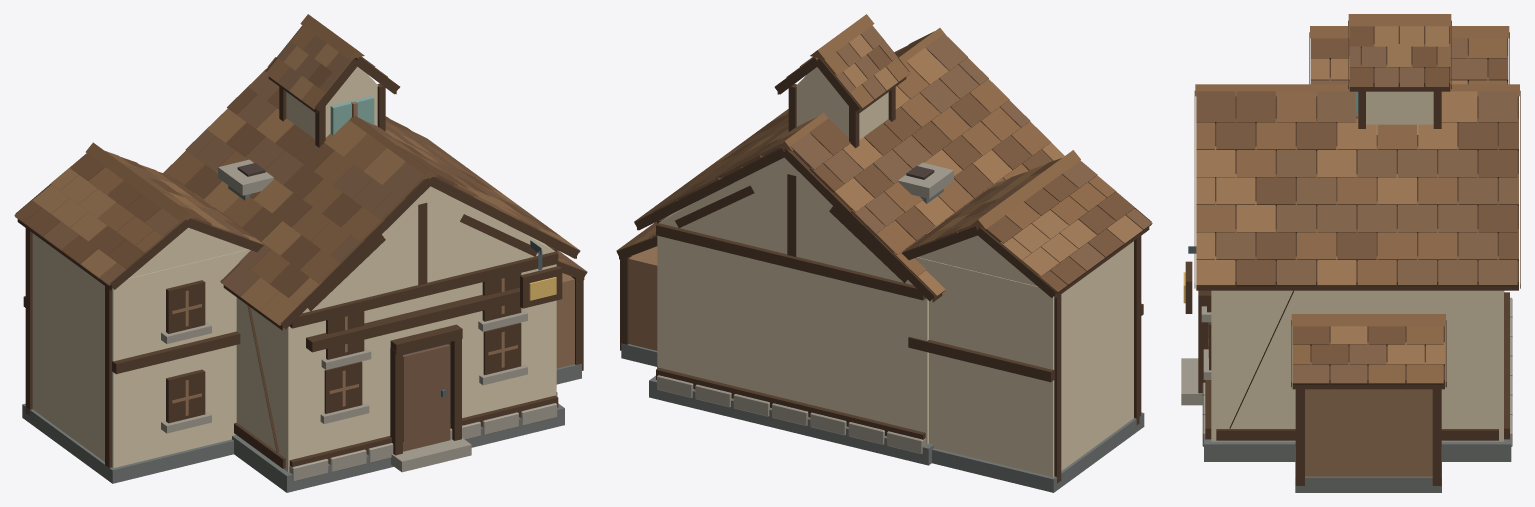
The model's file is ENV_Civic_tavern_LOD0.glb.
3 views of the same model, side by side, from view 1: azimuth 30°, elevation 25°; view 2: azimuth 150°, elevation 25°; view 3: azimuth 270°, elevation 25° (orthographic). The views are drawn at different scales.
Visible parts, largest first — view 1: ENV_Civic_tavern_LOD0_roof_roofTiles, ENV_Civic_tavern_LOD0_shell_plasterIvory, ENV_Civic_tavern_LOD0_stage7_upper_wing_plasterIvory, ENV_Civic_tavern_LOD0_shell_woodDark, ENV_Civic_tavern_LOD0_stage7_upper_wing_roofTiles, ENV_Civic_tavern_LOD0_stage7_upper_wing_woodDark, ENV_Civic_tavern_LOD0_tavern_identity_woodDark, ENV_Civic_tavern_LOD0_stage8_roof_lantern_roofTiles, ENV_Civic_tavern_LOD0_shell_wood, ENV_Civic_tavern_LOD0_roof_woodDark, ENV_Civic_tavern_LOD0_foundation_stoneDark, ENV_Civic_tavern_LOD0_stage7_upper_wing_stoneDark (+9 smaller); view 2: ENV_Civic_tavern_LOD0_shell_plasterIvory, ENV_Civic_tavern_LOD0_stage7_upper_wing_plasterIvory, ENV_Civic_tavern_LOD0_roof_roofTiles, ENV_Civic_tavern_LOD0_stage7_upper_wing_roofTiles, ENV_Civic_tavern_LOD0_shell_woodDark, ENV_Civic_tavern_LOD0_stage7_upper_wing_woodDark, ENV_Civic_tavern_LOD0_stage8_roof_lantern_roofTiles, ENV_Civic_tavern_LOD0_foundation_stone, ENV_Civic_tavern_LOD0_roof_woodDark, ENV_Civic_tavern_LOD0_stage7_upper_wing_stoneDark, ENV_Civic_tavern_LOD0_foundation_stoneDark, ENV_Civic_tavern_LOD0_stage8_roof_lantern_plasterIvory (+5 smaller); view 3: ENV_Civic_tavern_LOD0_roof_roofTiles, ENV_Civic_tavern_LOD0_shell_plasterIvory, ENV_Civic_tavern_LOD0_stage5_shed_woodLight, ENV_Civic_tavern_LOD0_stage5_shed_roofTiles, ENV_Civic_tavern_LOD0_stage8_roof_lantern_roofTiles, ENV_Civic_tavern_LOD0_stage7_upper_wing_roofTiles, ENV_Civic_tavern_LOD0_roof_woodDark, ENV_Civic_tavern_LOD0_shell_woodDark, ENV_Civic_tavern_LOD0_foundation_stoneDark, ENV_Civic_tavern_LOD0_stage5_shed_woodDark, ENV_Civic_tavern_LOD0_stage5_shed_stoneDark, ENV_Civic_tavern_LOD0_stage8_roof_lantern_plasterIvory (+4 smaller).
Part boxes in pixels (left/top/right/bottom): ENV_Civic_tavern_LOD0_roof_roofTiles: left=163, top=57, right=580, bottom=325; ENV_Civic_tavern_LOD0_shell_plasterIvory: left=236, top=186, right=556, bottom=472; ENV_Civic_tavern_LOD0_stage7_upper_wing_plasterIvory: left=32, top=227, right=250, bottom=468; ENV_Civic_tavern_LOD0_shell_woodDark: left=234, top=202, right=558, bottom=468; ENV_Civic_tavern_LOD0_stage7_upper_wing_roofTiles: left=14, top=142, right=263, bottom=285; ENV_Civic_tavern_LOD0_stage7_upper_wing_woodDark: left=15, top=154, right=263, bottom=467; ENV_Civic_tavern_LOD0_tavern_identity_woodDark: left=306, top=266, right=562, bottom=359; ENV_Civic_tavern_LOD0_stage8_roof_lantern_roofTiles: left=265, top=14, right=400, bottom=109; ENV_Civic_tavern_LOD0_shell_wood: left=403, top=344, right=450, bottom=451; ENV_Civic_tavern_LOD0_roof_woodDark: left=163, top=151, right=579, bottom=330; ENV_Civic_tavern_LOD0_foundation_stoneDark: left=232, top=403, right=564, bottom=492; ENV_Civic_tavern_LOD0_stage7_upper_wing_stoneDark: left=22, top=403, right=233, bottom=483; ENV_Civic_tavern_LOD0_shell_plasterIvory: left=657, top=157, right=928, bottom=444; ENV_Civic_tavern_LOD0_stage7_upper_wing_plasterIvory: left=915, top=235, right=1133, bottom=476; ENV_Civic_tavern_LOD0_roof_roofTiles: left=634, top=28, right=1064, bottom=297; ENV_Civic_tavern_LOD0_stage7_upper_wing_roofTiles: left=902, top=150, right=1152, bottom=293; ENV_Civic_tavern_LOD0_shell_woodDark: left=656, top=174, right=925, bottom=439; ENV_Civic_tavern_LOD0_stage7_upper_wing_woodDark: left=901, top=191, right=1151, bottom=483; ENV_Civic_tavern_LOD0_stage8_roof_lantern_roofTiles: left=775, top=14, right=910, bottom=109; ENV_Civic_tavern_LOD0_foundation_stone: left=657, top=375, right=925, bottom=454; ENV_Civic_tavern_LOD0_roof_woodDark: left=634, top=142, right=1064, bottom=302; ENV_Civic_tavern_LOD0_stage7_upper_wing_stoneDark: left=932, top=412, right=1144, bottom=492; ENV_Civic_tavern_LOD0_foundation_stoneDark: left=649, top=375, right=933, bottom=465; ENV_Civic_tavern_LOD0_stage8_roof_lantern_plasterIvory: left=796, top=67, right=888, bottom=139; ENV_Civic_tavern_LOD0_roof_roofTiles: left=1195, top=84, right=1519, bottom=286; ENV_Civic_tavern_LOD0_shell_plasterIvory: left=1211, top=290, right=1503, bottom=441; ENV_Civic_tavern_LOD0_stage5_shed_woodLight: left=1305, top=389, right=1432, bottom=476; ENV_Civic_tavern_LOD0_stage5_shed_roofTiles: left=1291, top=314, right=1445, bottom=384; ENV_Civic_tavern_LOD0_stage8_roof_lantern_roofTiles: left=1348, top=14, right=1451, bottom=87; ENV_Civic_tavern_LOD0_stage7_upper_wing_roofTiles: left=1310, top=26, right=1509, bottom=84; ENV_Civic_tavern_LOD0_roof_woodDark: left=1194, top=90, right=1520, bottom=290; ENV_Civic_tavern_LOD0_shell_woodDark: left=1198, top=290, right=1509, bottom=440; ENV_Civic_tavern_LOD0_foundation_stoneDark: left=1204, top=440, right=1511, bottom=461; ENV_Civic_tavern_LOD0_stage5_shed_woodDark: left=1291, top=320, right=1446, bottom=485; ENV_Civic_tavern_LOD0_stage5_shed_stoneDark: left=1295, top=447, right=1441, bottom=492; ENV_Civic_tavern_LOD0_stage8_roof_lantern_plasterIvory: left=1366, top=91, right=1433, bottom=134.
Bounding box in the file's own units: 8.76 × 6.39 × 5.22.
